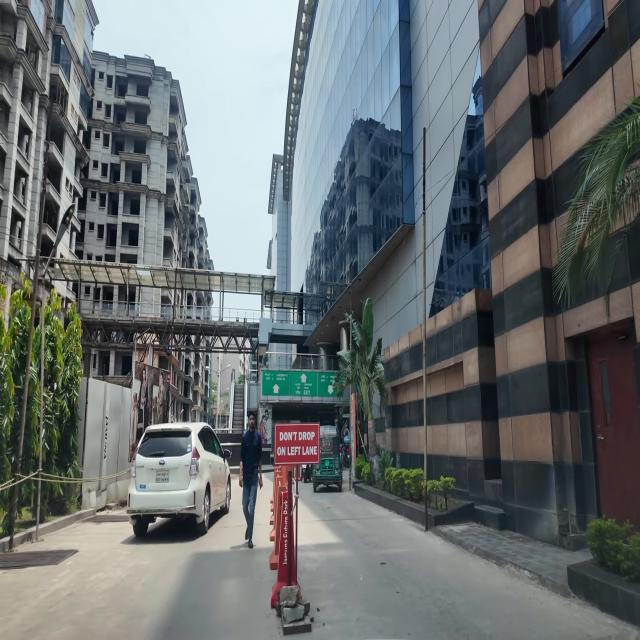person: (239, 411, 263, 549)
